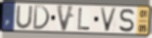D: (32, 5, 51, 32)
L: (76, 7, 91, 31)
S: (118, 8, 135, 34)
U: (14, 5, 34, 30)
V: (56, 4, 76, 33), (99, 7, 118, 33)
